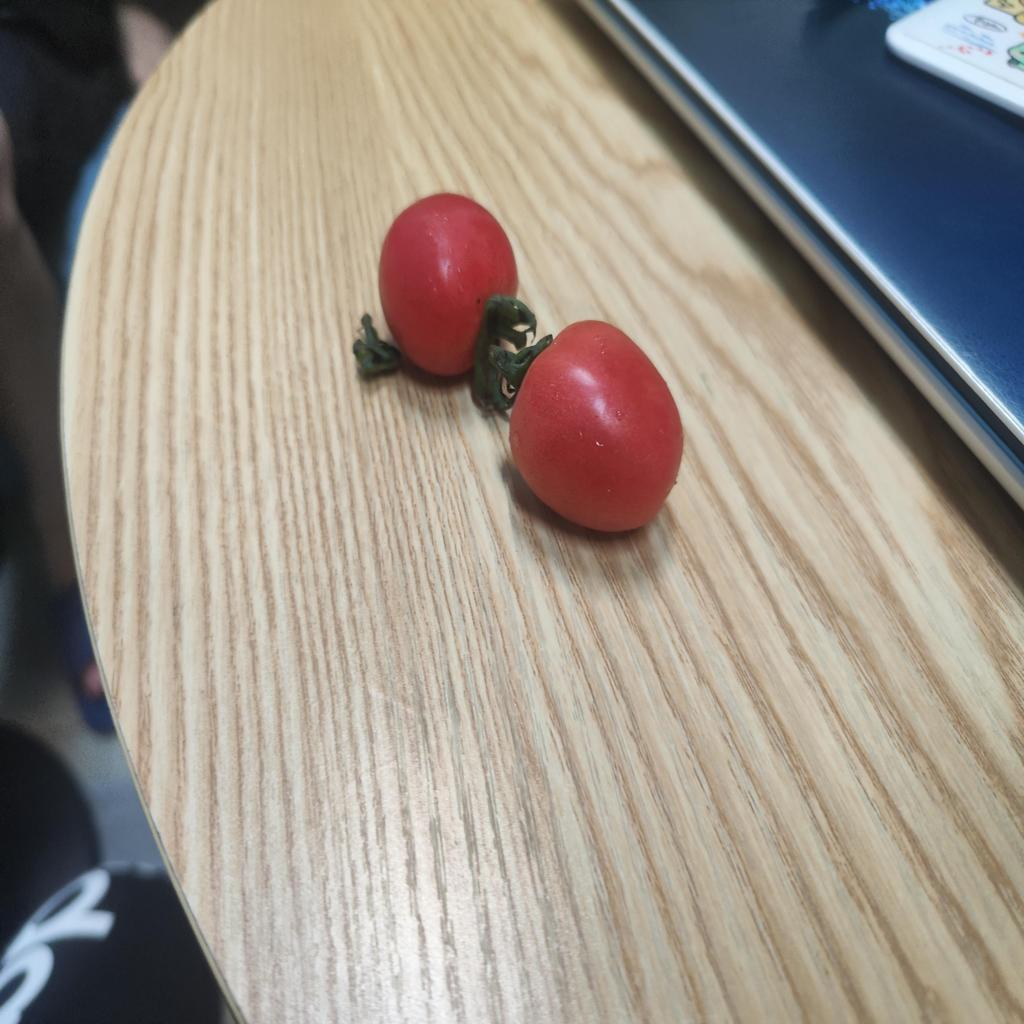tomato: (513, 320, 682, 540), (378, 194, 520, 370)
